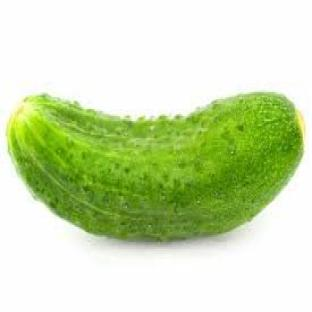Cucumber: (7, 93, 302, 240)
